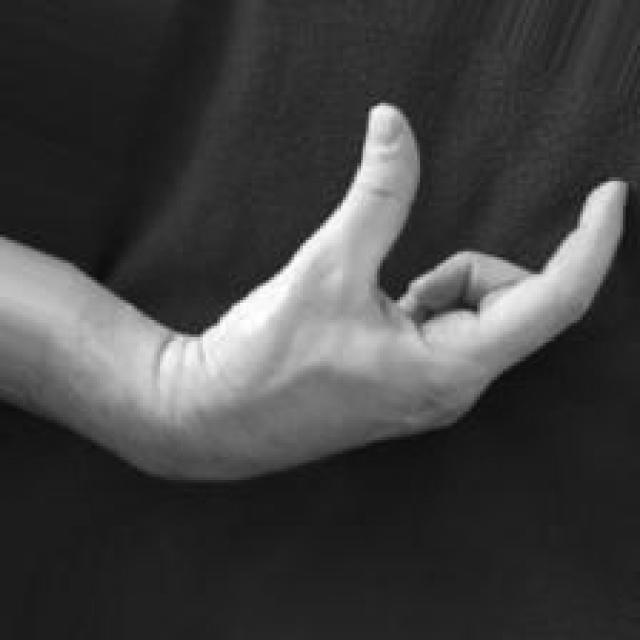U: (176, 100, 640, 483)
